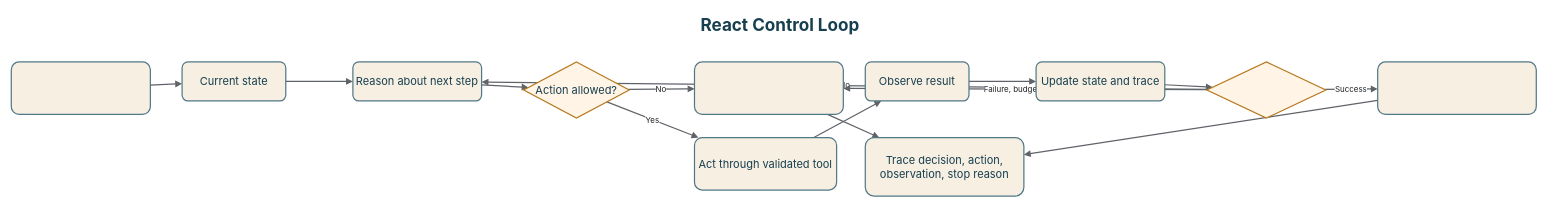
The diagram is 1547 pixels wide and 207 high, and some of its shapes have lost their labels. The shapes that lost their labels are listed below. From the top down, each one's centre as x and y in pixels, then its label:
At point 80,88: "Goal, constraints, budget".
At point 769,88: "Refuse, re-plan, or escalate".
At point 1266,89: "Stop condition met?".
At point 1457,88: "Final answer or completed action".
